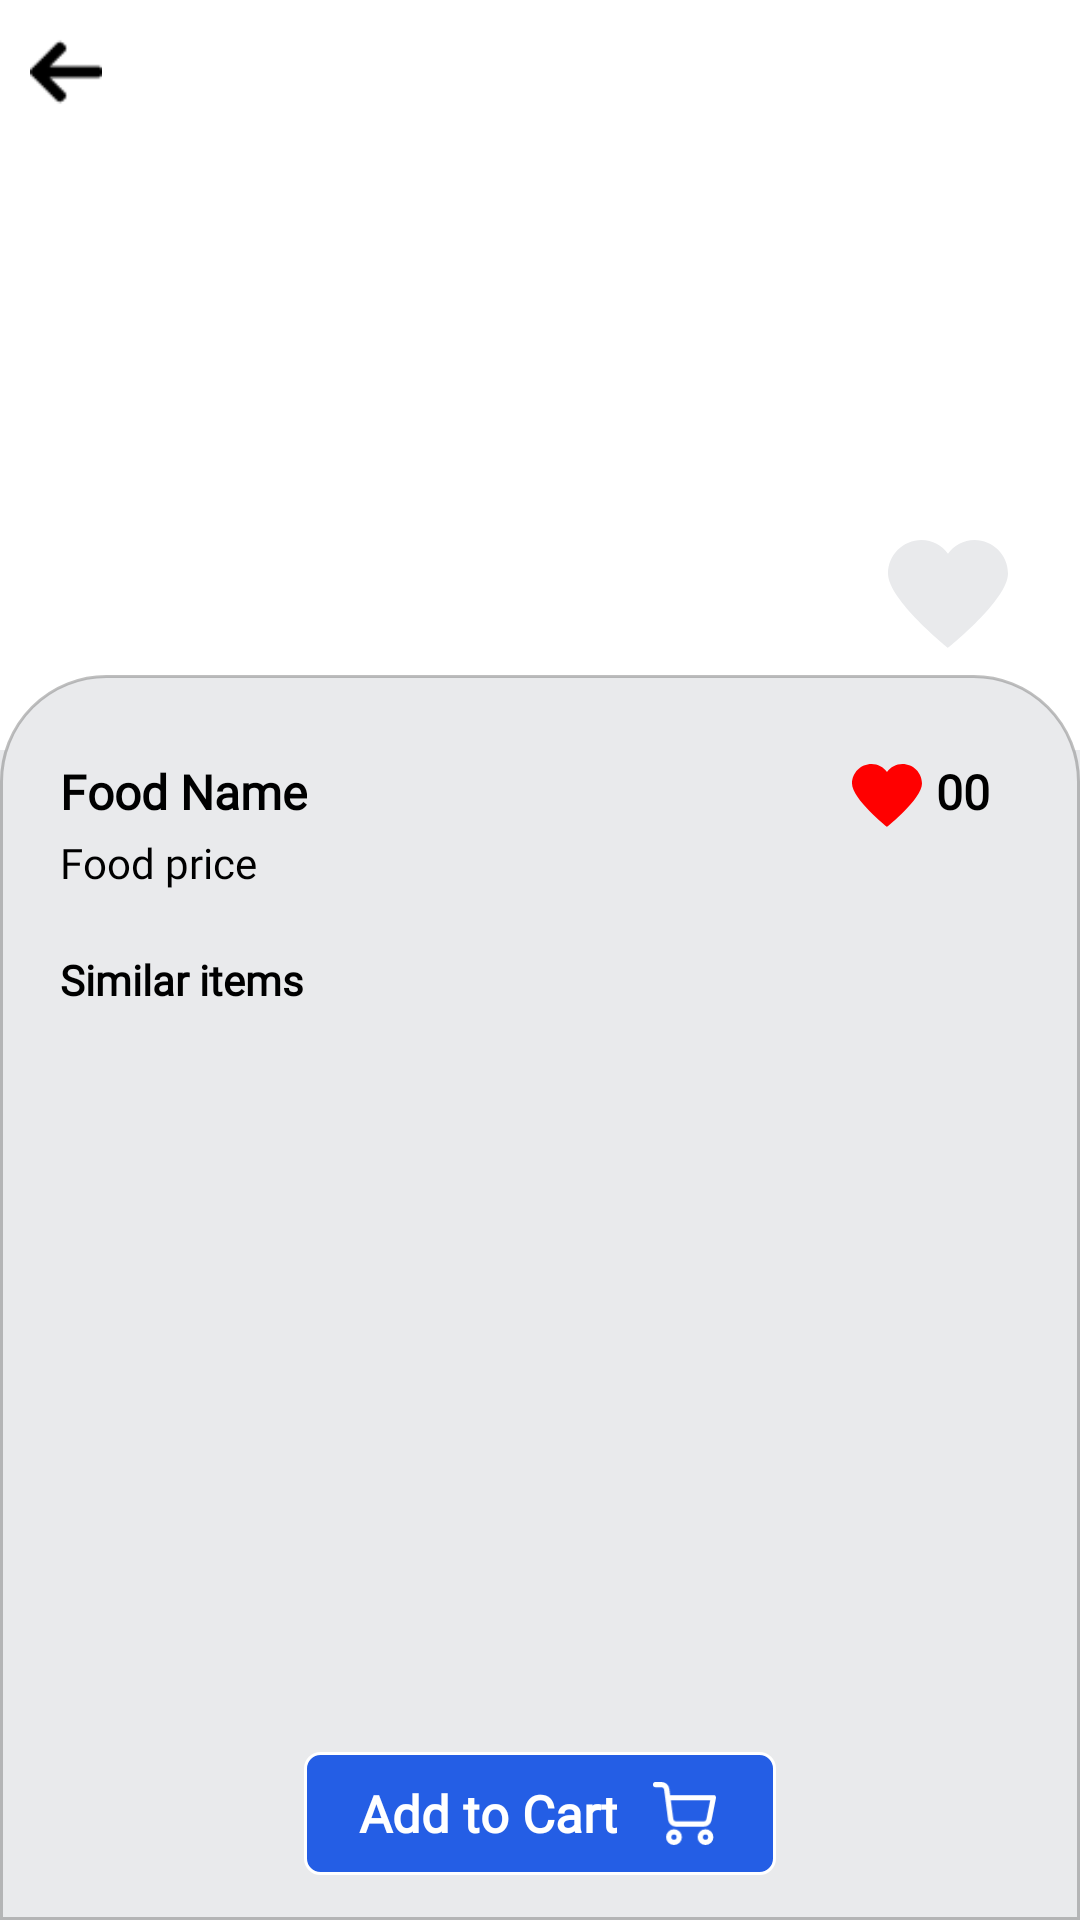

Named icons in this screenshot (1080w x 1920h) and their bounding boxes, (x1, y1, x2, y2):
back arrow: (30, 40, 102, 104)
carticon: (653, 1782, 716, 1845)
